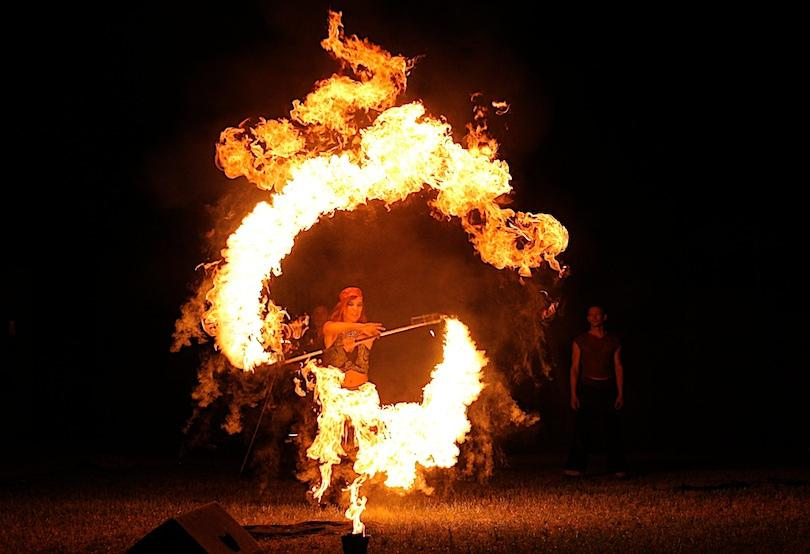fire: (297, 111, 470, 201), (334, 400, 459, 476), (219, 221, 280, 367), (470, 203, 567, 266)
